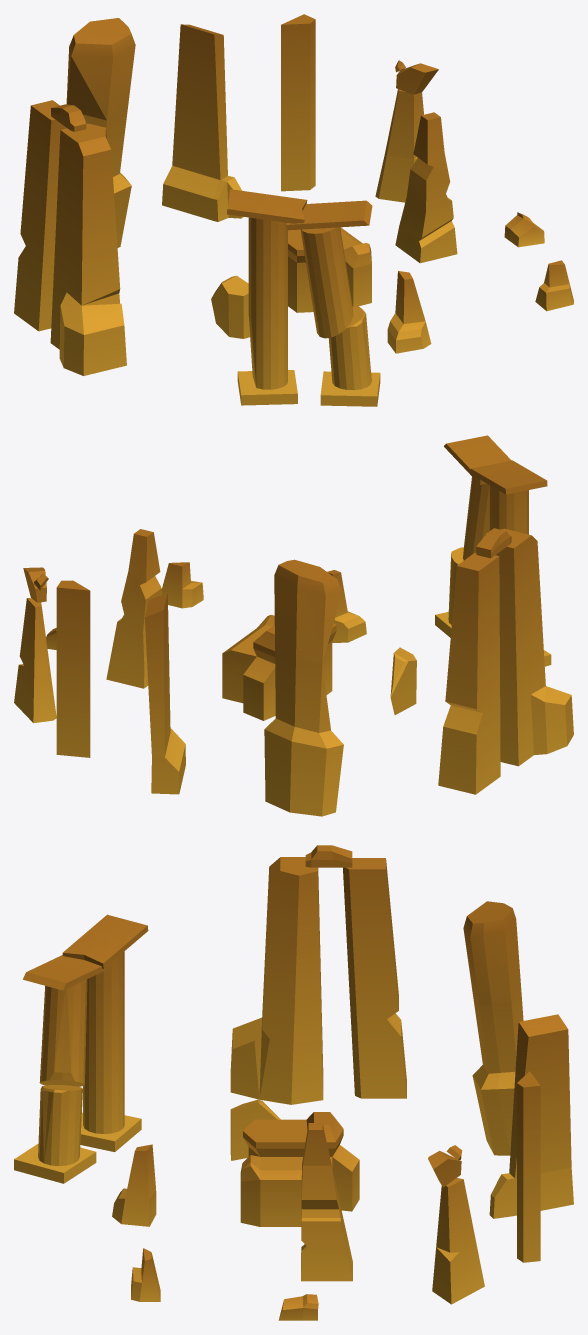
Rendered from Temple.fbx.
The picture shows the model from 3 angles, top to bottom: view 1: azimuth 30°, elevation 25°; view 2: azimuth 150°, elevation 25°; view 3: azimuth 270°, elevation 25°; orthographic projection. The views are drawn at different scales.
Parts seen in each view (by area): view 1: Temple01; view 2: Temple01; view 3: Temple01.
Part boxes in pixels (bbox=[...]): Temple01: bbox=[14, 14, 573, 406]; Temple01: bbox=[14, 435, 573, 816]; Temple01: bbox=[14, 845, 573, 1320].
Size of the model in its own units: 642 by 285 by 601.
